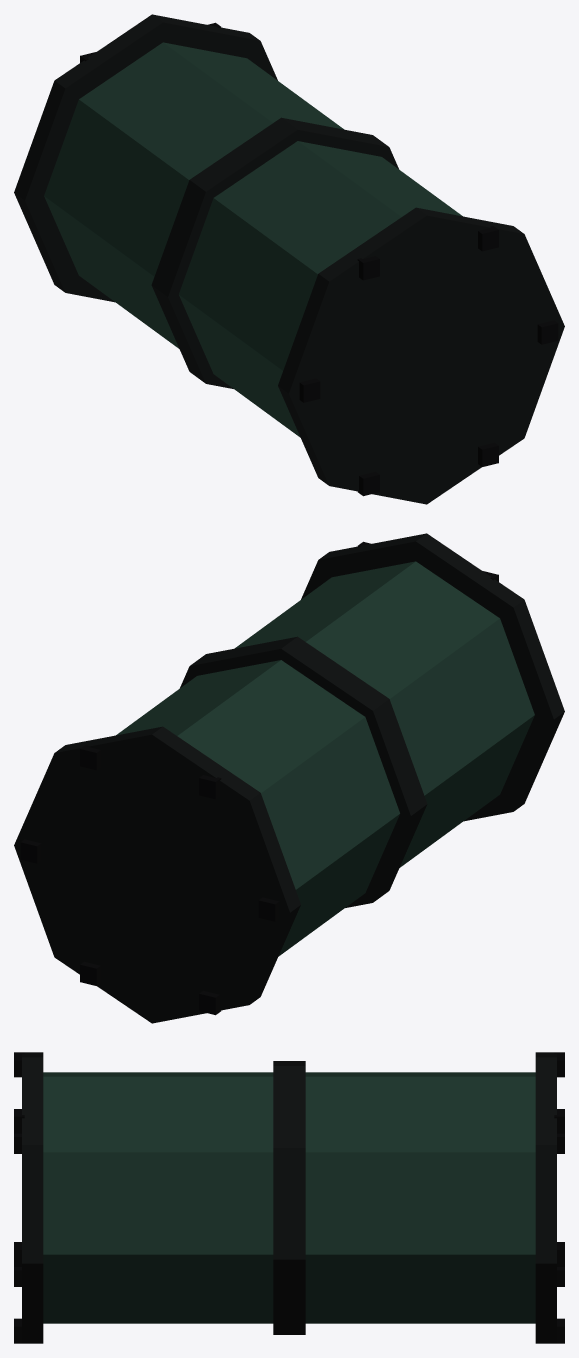
The model's file is SM_Pipe_Straight_2m.glb.
3 renders of one model, top to bottom at view 1: azimuth 30°, elevation 25°; view 2: azimuth 150°, elevation 25°; view 3: azimuth 270°, elevation 25°, orthographic. The views are drawn at different scales.
Visible parts, largest first — view 1: SM_Pipe_Straight_2m-col; view 2: SM_Pipe_Straight_2m-col; view 3: SM_Pipe_Straight_2m-col.
Boxes of the visible parts, x1,y1,x2,y2 form: SM_Pipe_Straight_2m-col: (14,14,564,504); SM_Pipe_Straight_2m-col: (14,533,564,1023); SM_Pipe_Straight_2m-col: (14,1052,564,1343).
Size of the model in its own units: 1.16 by 1.16 by 2.06.
